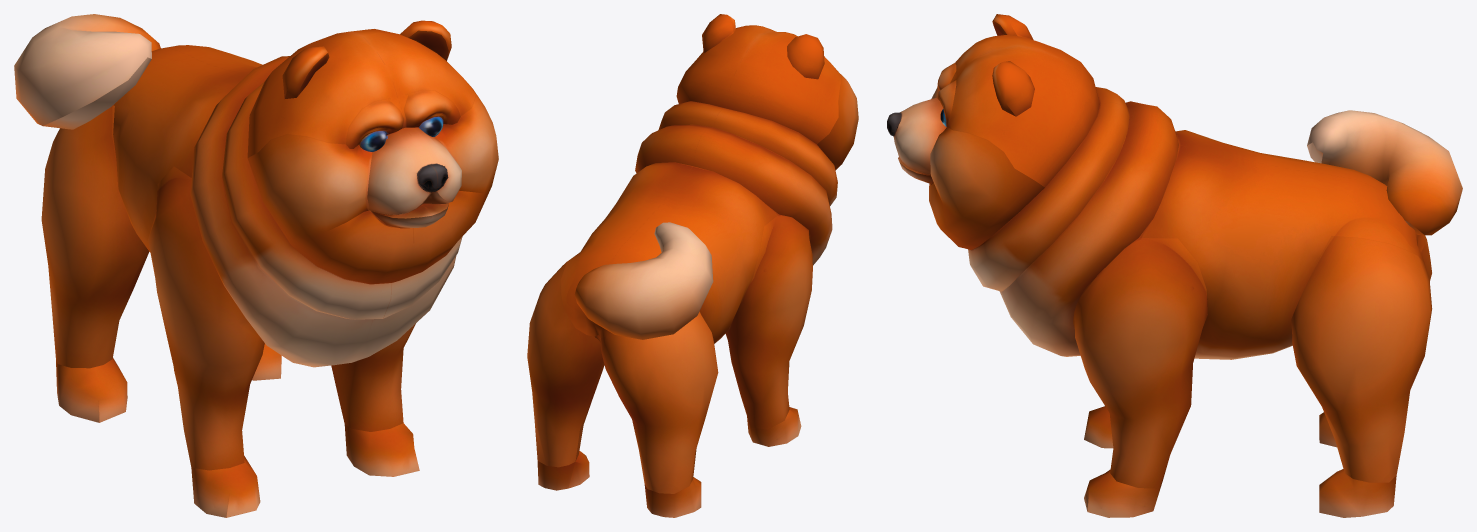
The model's file is Perro4.obj.
The picture shows the model from 3 angles, left to right: view 1: azimuth 30°, elevation 25°; view 2: azimuth 150°, elevation 25°; view 3: azimuth 270°, elevation 25°; orthographic projection. The views are drawn at different scales.
Visible parts, largest first — view 1: Group24122; view 2: Group24122; view 3: Group24122.
Boxes of the visible parts, box(x1,y1,x2,y2) form: Group24122: box(14, 14, 498, 517); Group24122: box(527, 14, 858, 517); Group24122: box(887, 14, 1462, 517).
Size of the model in its own units: 0.3586 by 0.6623 by 0.7945.
2 materials, 1 textured.
